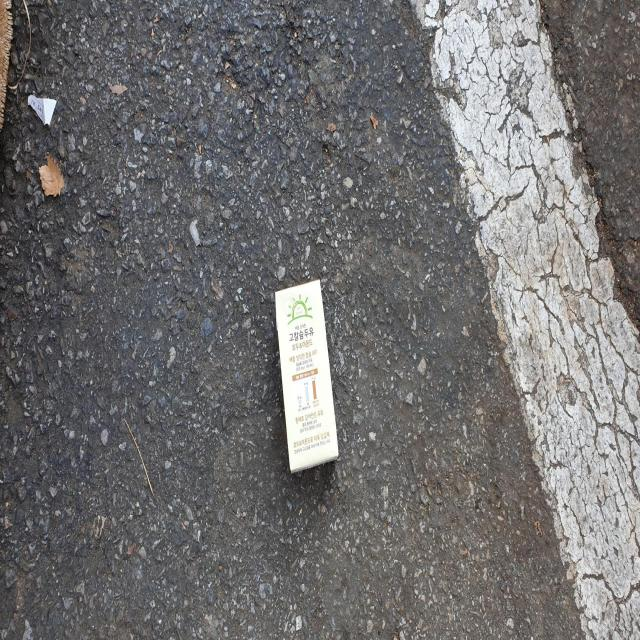paperpack: (275, 279, 339, 472)
